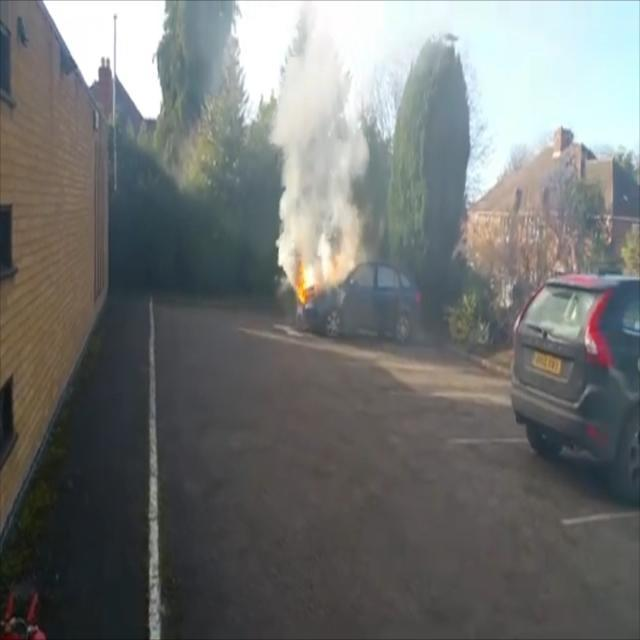fire: (290, 240, 349, 309)
